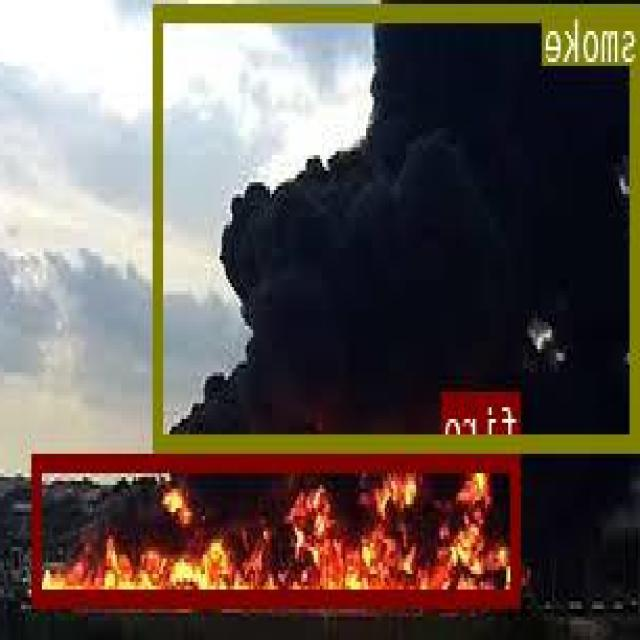fire: (35, 452, 522, 603)
smoke: (157, 0, 640, 450)
